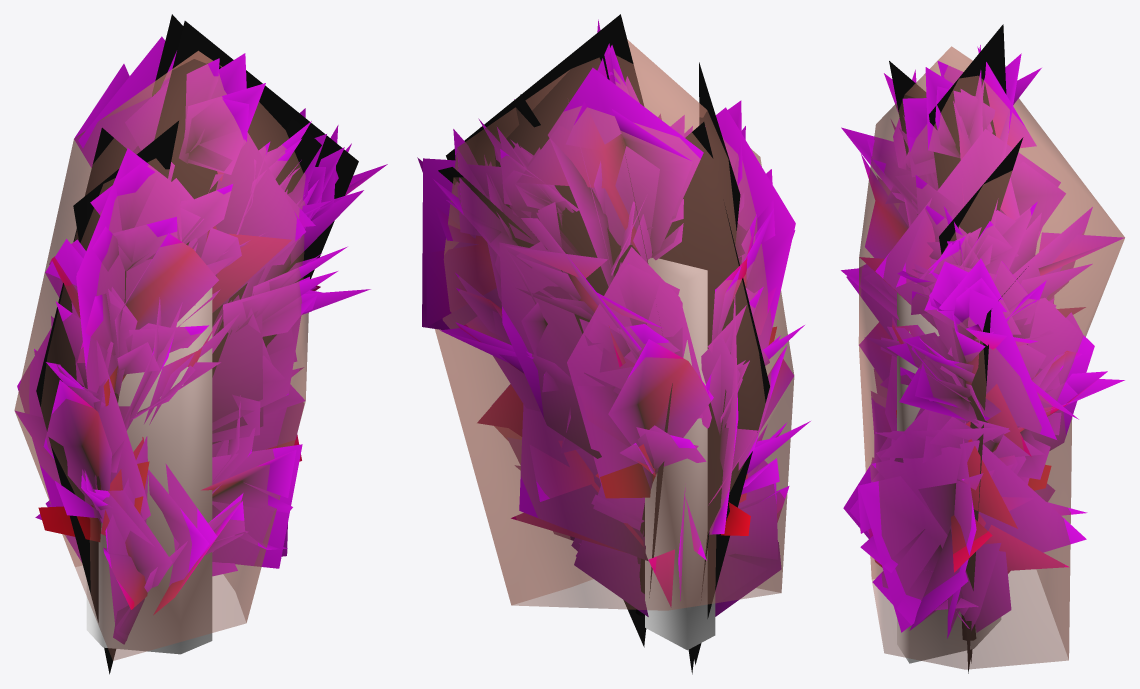
Rendered from tree_aspen_blocker_a.dae.
3 views of the same model, side by side, from view 1: azimuth 30°, elevation 25°; view 2: azimuth 150°, elevation 25°; view 3: azimuth 270°, elevation 25° (orthographic). The views are drawn at different scales.
Parts seen in each view (by area): view 1: Colmesh_blocker-1, Birch_blocker_a350, Birch_blocker_a700; view 2: Colmesh_blocker-1, Birch_blocker_a350, Birch_blocker_a700; view 3: Colmesh_blocker-1, Birch_blocker_a350, Birch_blocker_a700.
Boxes of the visible parts, box(x1,y1,x2,y2) form: Colmesh_blocker-1: box(14, 50, 308, 660); Birch_blocker_a350: box(17, 21, 370, 667); Birch_blocker_a700: box(15, 14, 387, 674); Colmesh_blocker-1: box(435, 39, 794, 650); Birch_blocker_a350: box(422, 14, 810, 664); Birch_blocker_a700: box(417, 33, 795, 674); Colmesh_blocker-1: box(858, 46, 1124, 669); Birch_blocker_a350: box(841, 45, 1124, 638); Birch_blocker_a700: box(843, 24, 1124, 673).
Size of the model in its own units: 3.7 by 2.32 by 6.19.
